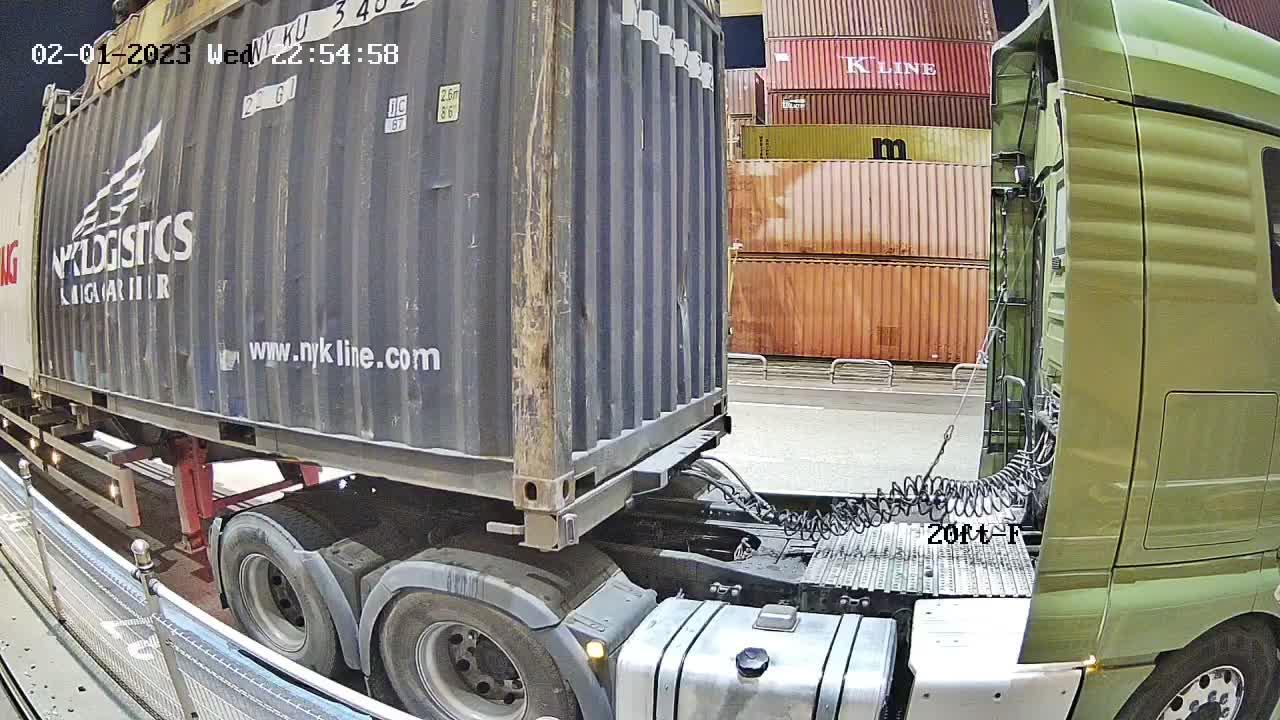Chassis: (515, 410, 730, 553)
Cone: (517, 508, 552, 549)
Hole_L: (554, 424, 601, 512)
Hole_R: (486, 440, 556, 511), (705, 374, 730, 419)
Tire: (379, 589, 564, 719), (217, 517, 333, 680)
